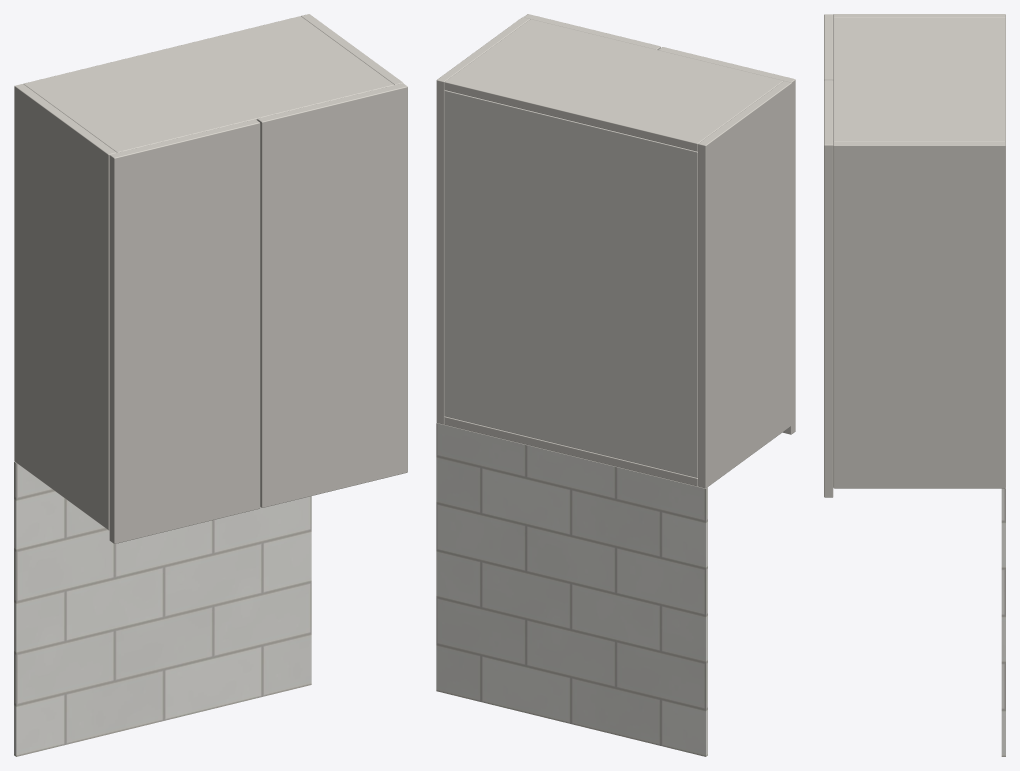
Rendered from upper_cabinet_60.glb.
The picture shows the model from 3 angles, left to right: view 1: azimuth 30°, elevation 25°; view 2: azimuth 150°, elevation 25°; view 3: azimuth 270°, elevation 25°; orthographic projection. The views are drawn at different scales.
Parts seen in each view (by area): view 1: upper_cabinet_60_doors, upper_cabinet_60_carcass, upper_cabinet_60_backsplash; view 2: upper_cabinet_60_carcass, upper_cabinet_60_backsplash, upper_cabinet_60_doors; view 3: upper_cabinet_60_carcass, upper_cabinet_60_doors, upper_cabinet_60_backsplash.
Boxes of the visible parts, <box> form: upper_cabinet_60_doors: <box>109,83,407,543</box>; upper_cabinet_60_carcass: <box>14,14,402,530</box>; upper_cabinet_60_backsplash: <box>14,461,311,756</box>; upper_cabinet_60_carcass: <box>436,17,791,488</box>; upper_cabinet_60_backsplash: <box>436,423,707,756</box>; upper_cabinet_60_doors: <box>524,14,795,434</box>; upper_cabinet_60_carcass: <box>833,14,1005,488</box>; upper_cabinet_60_doors: <box>824,14,833,497</box>; upper_cabinet_60_backsplash: <box>1001,488,1005,756</box>.
Size of the model in its own units: 0.6 by 1.3 by 0.35.
Materials: 5 (1 with a texture image).
